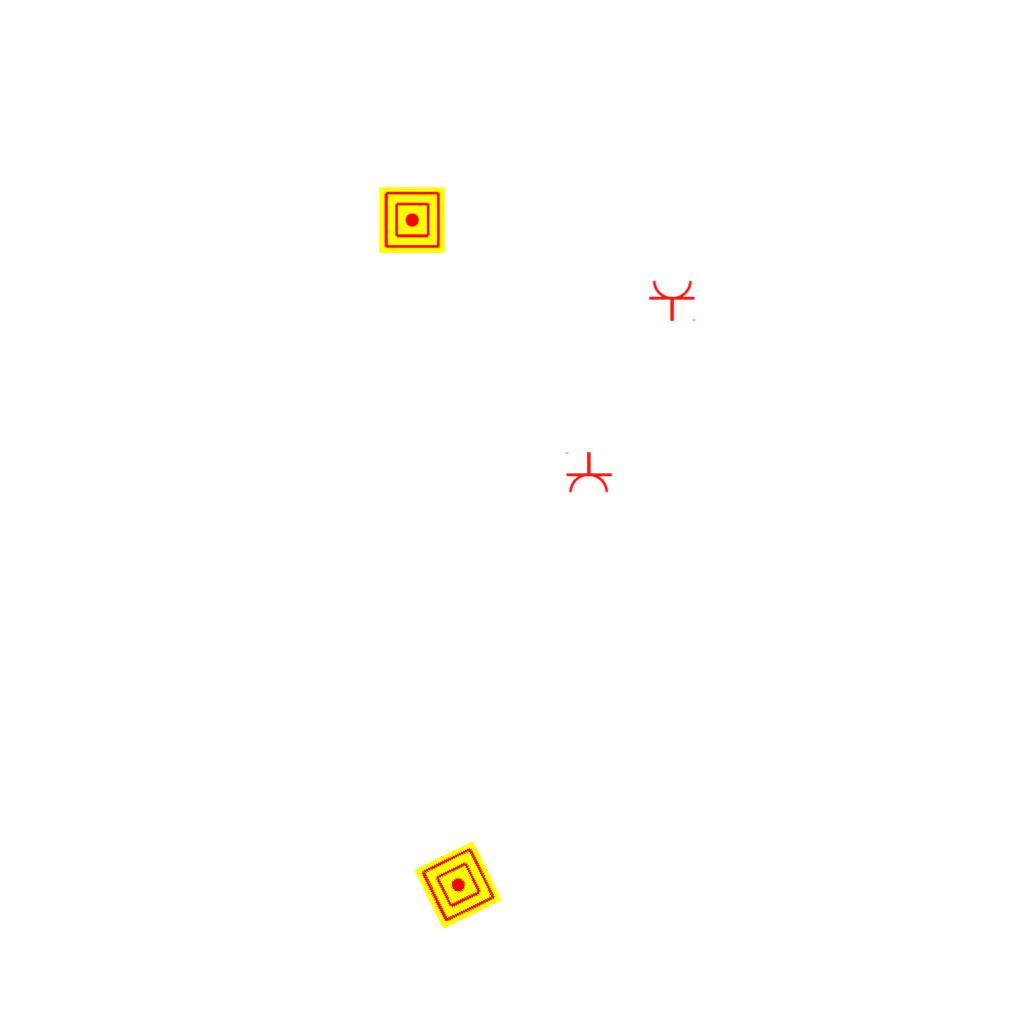NAM-Nichtautomatischer_Melder: (413, 840, 503, 930), (379, 187, 445, 253)
Schukosteckdose_einfach: (648, 279, 698, 322), (563, 451, 613, 494)
